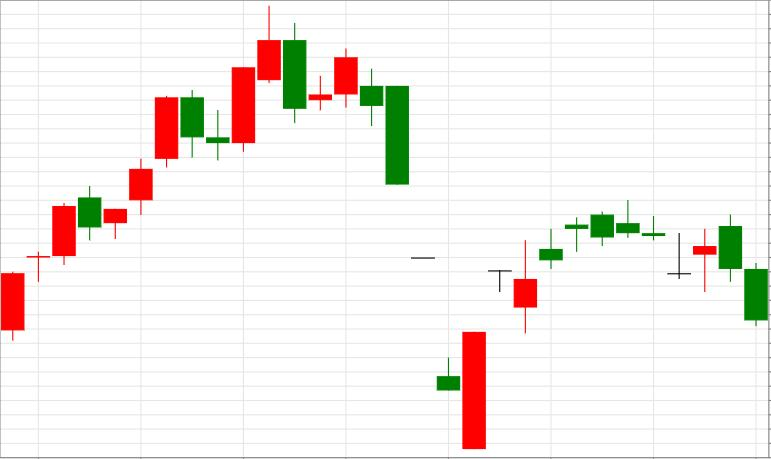bullish_engulfing_rise: (335, 49, 486, 449)
